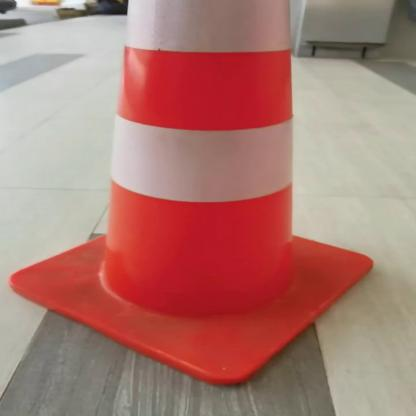cone: (10, 0, 381, 388)
